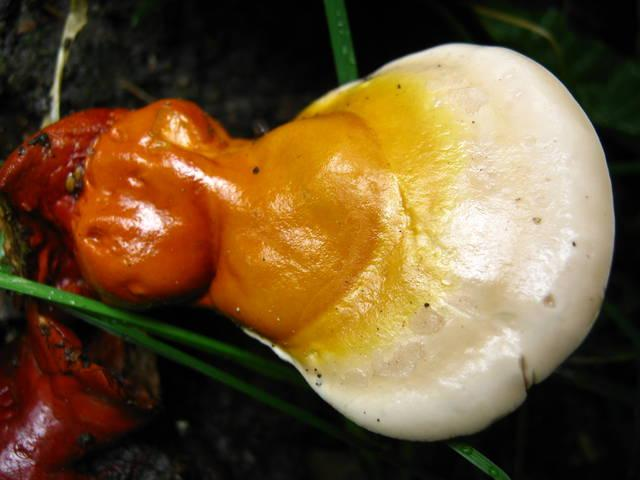poisonous_mushroom: (0, 39, 617, 442)
